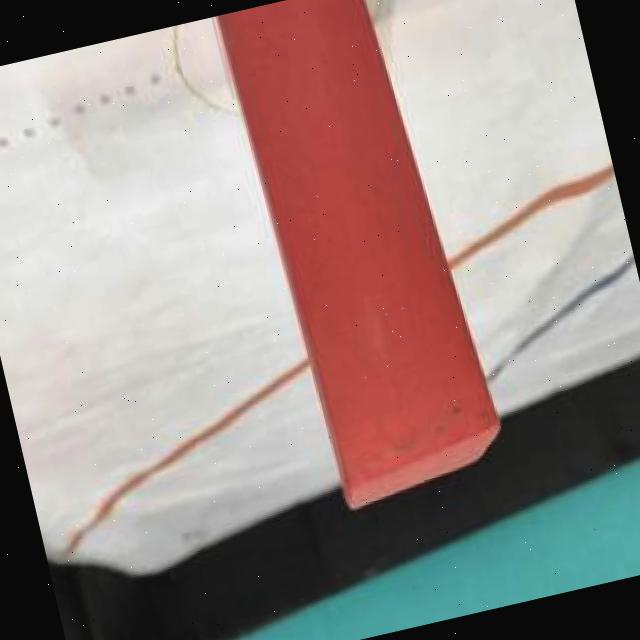redbox: (219, 0, 515, 518)
